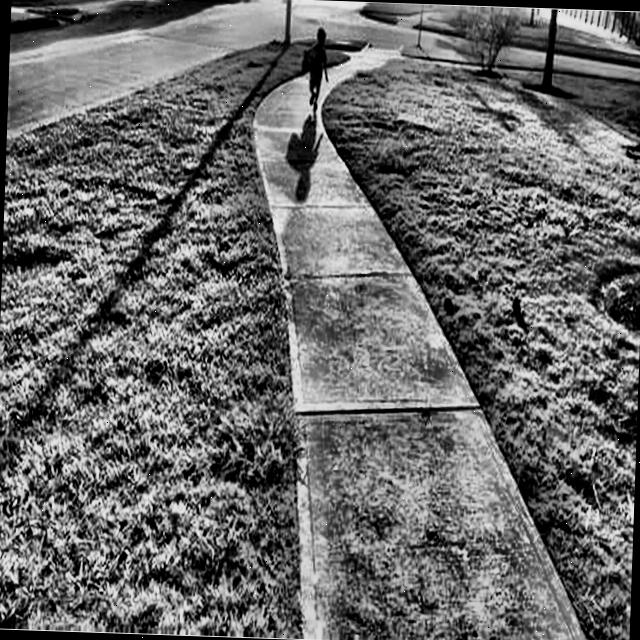sidewalks: (256, 123, 585, 638)
